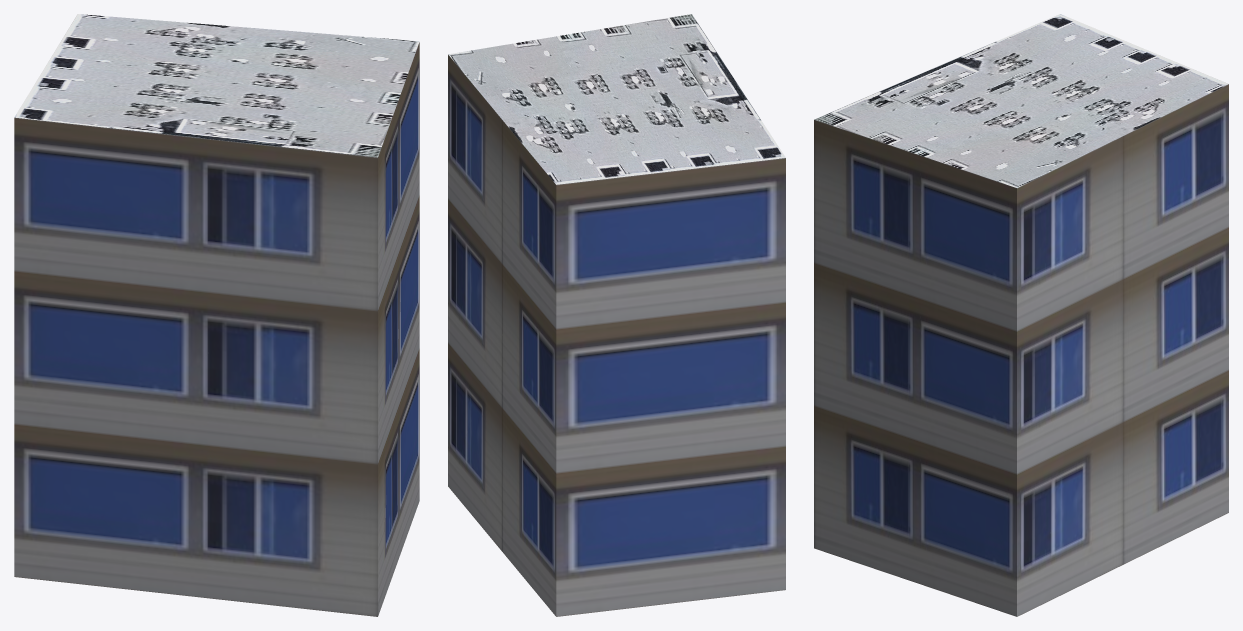
File: ResTex__4179.fbx
3 renders of one model, left to right at view 1: azimuth 30°, elevation 25°; view 2: azimuth 150°, elevation 25°; view 3: azimuth 270°, elevation 25°, orthographic. The views are drawn at different scales.
Parts seen in each view (by area): view 1: CityEngineMaterial_23_m, CityEngineMaterial_8_m; view 2: CityEngineMaterial_23_m, CityEngineMaterial_8_m; view 3: CityEngineMaterial_23_m, CityEngineMaterial_8_m.
Boxes of the visible parts, x1,y1,x2,y2 form: CityEngineMaterial_23_m: [14, 42, 419, 616]; CityEngineMaterial_8_m: [14, 14, 419, 157]; CityEngineMaterial_23_m: [448, 54, 785, 616]; CityEngineMaterial_8_m: [448, 14, 785, 184]; CityEngineMaterial_23_m: [814, 84, 1228, 616]; CityEngineMaterial_8_m: [814, 14, 1228, 187].
Bounding box in the file's own units: 7.84 × 9 × 7.89.
2 materials, 2 textured.
